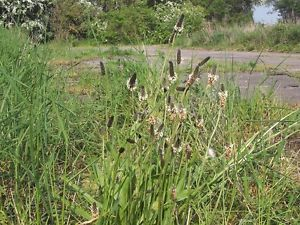buckhorn plantain: (93, 16, 227, 224)
